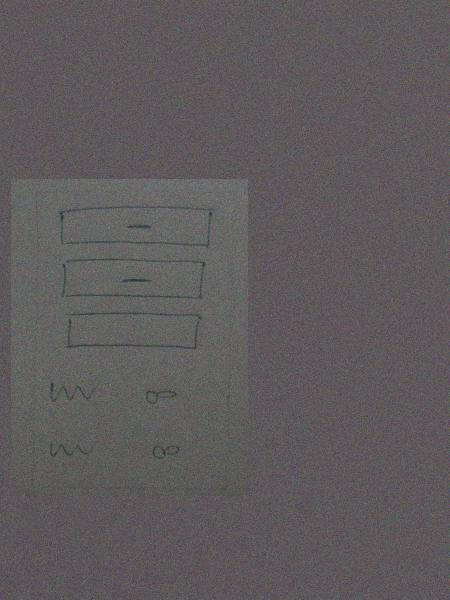button: (55, 202, 216, 251), (55, 256, 209, 306)
switch: (138, 381, 183, 409), (145, 437, 189, 465)
text: (44, 376, 98, 409), (44, 433, 97, 463)
text_input: (62, 309, 204, 354)
